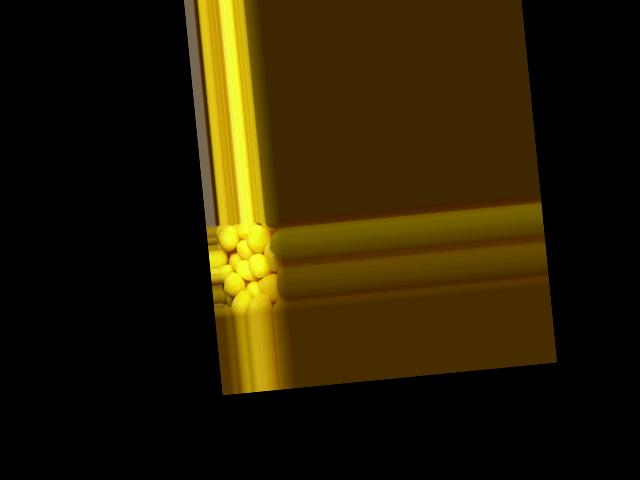lemon: (221, 269, 246, 303)
